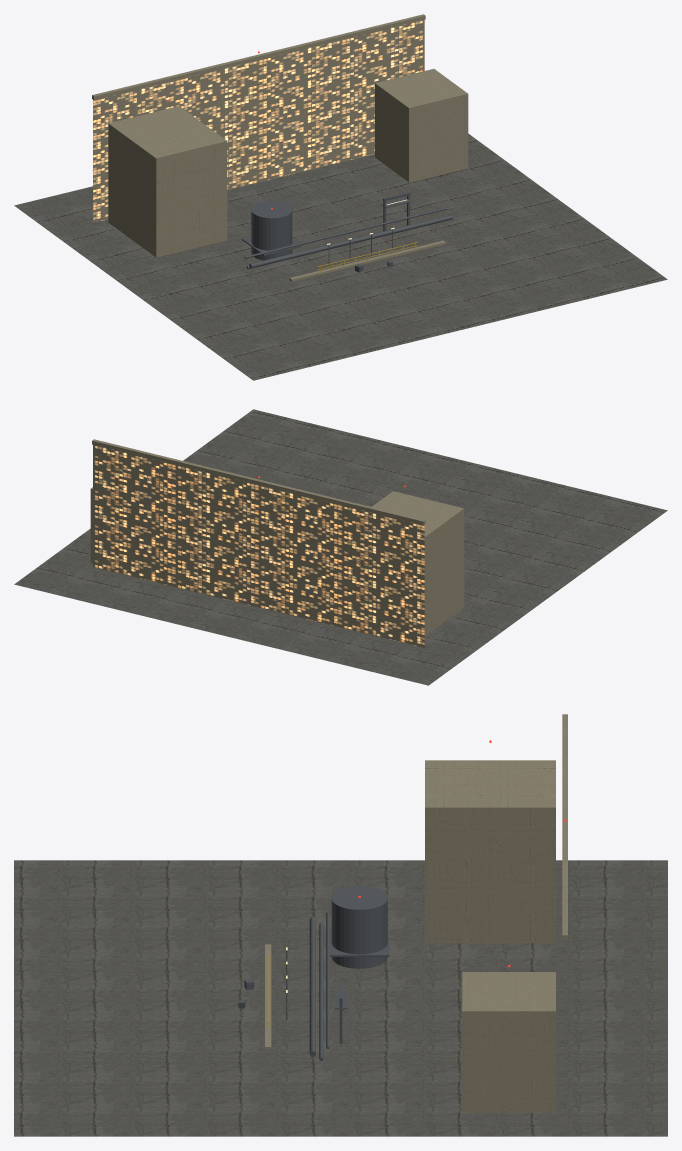
The model's file is night.glb.
The picture shows the model from 3 angles, top to bottom: view 1: azimuth 30°, elevation 25°; view 2: azimuth 150°, elevation 25°; view 3: azimuth 270°, elevation 25°; orthographic projection. The views are drawn at different scales.
Parts seen in each view (by area): view 1: ground, building, wing_left, wing_right, parapet, tank, pipe_a, curb, tank_cap, pipe_c; view 2: ground, building, wing_left, parapet; view 3: ground, wing_left, wing_right, tank, parapet, tank_cap, pipe_a, curb, pipe_b.
Boxes of the visible parts, x1,y1,x2,y2 form: ground: (14,133,667,380); building: (93,20,424,222); wing_left: (108,106,227,257); wing_right: (375,69,468,182); parapet: (92,14,425,100); tank: (251,212,292,260); pipe_a: (249,215,452,268); curb: (289,240,445,281); tank_cap: (251,200,292,219); pipe_c: (244,207,446,258); ground: (14,409,667,685); building: (93,445,424,647); wing_left: (372,491,464,635); parapet: (92,439,425,525); ground: (14,860,667,1136); wing_left: (425,760,555,943); wing_right: (462,972,555,1112); tank: (331,902,387,968); parapet: (562,714,567,940); tank_cap: (331,885,388,911); pipe_a: (309,917,315,1056); curb: (265,944,271,1049); pipe_b: (319,923,323,1060).
Size of the model in its own units: 70 by 21.15 by 70.
7 materials, 3 textured.
